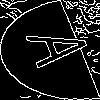A: (25, 25, 100, 69)
